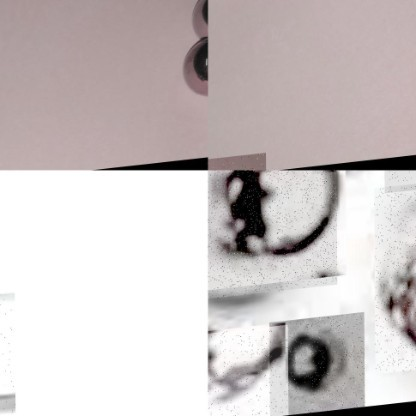ironball: (208, 170, 336, 300), (268, 315, 364, 415), (373, 175, 415, 378), (208, 326, 287, 415), (182, 35, 204, 101), (208, 153, 265, 170), (188, 0, 208, 36)
